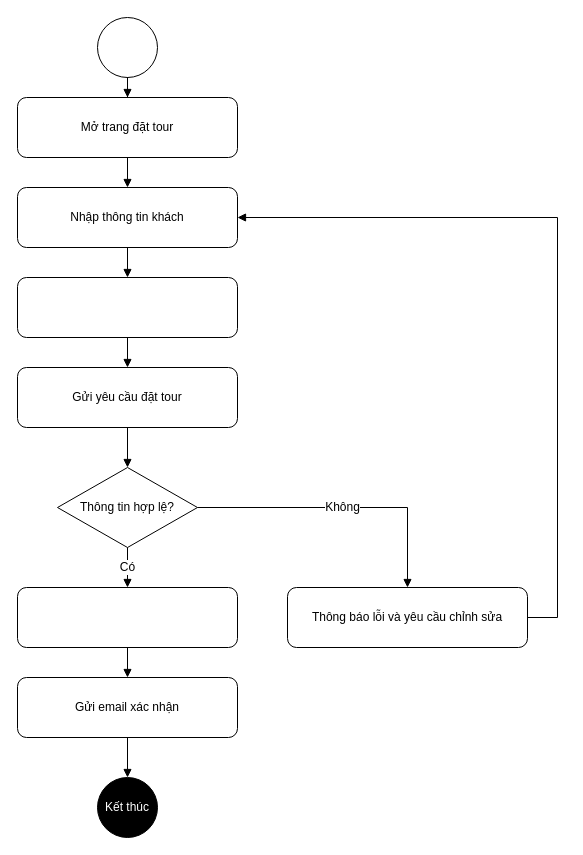
Some shapes in this 583 by 855 pixel diagram are drawn without their labels. The centre of each missing label's shape, as x and y in pixels:
Bắt đầu: (127,47)
Chọn lịch trình và số lượng: (127,307)
Ghi nhận đặt tour: (127,617)
